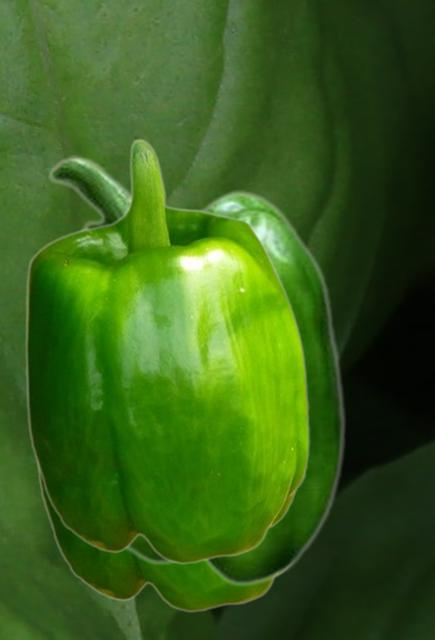bell_pepper: (44, 155, 346, 586), (24, 138, 309, 564), (34, 461, 282, 612)
